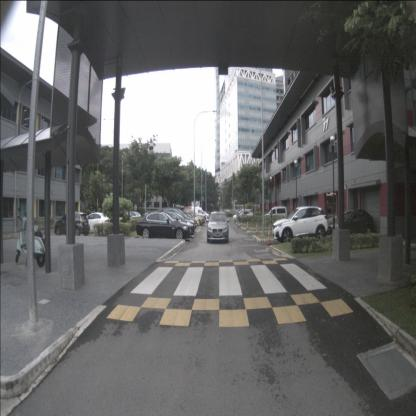cone: (266, 228, 272, 245), (255, 222, 259, 236), (246, 221, 249, 231), (240, 219, 243, 228)
